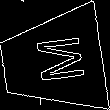M_W: (23, 35, 83, 88)
